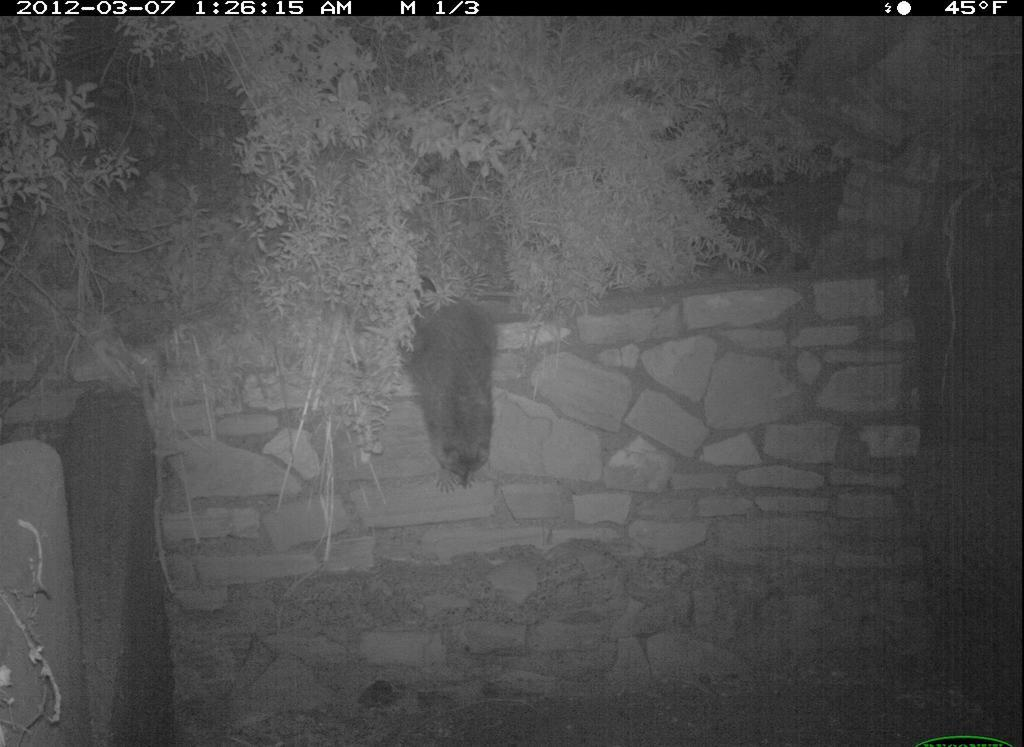raccoon: (390, 280, 516, 501)
